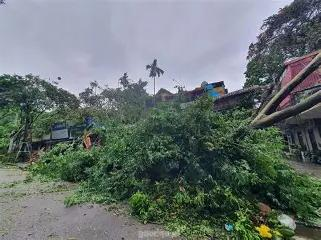ROAD_OBSTACLE: (21, 45, 321, 240)
